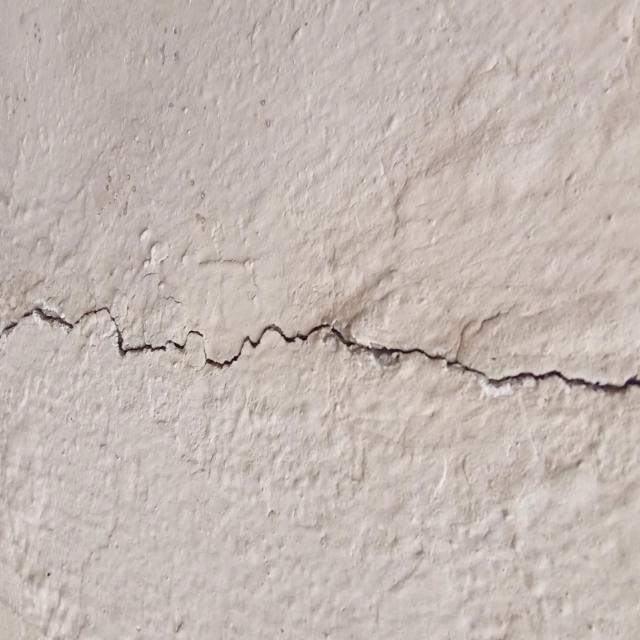SurfaceCrack: (0, 261, 638, 427)
